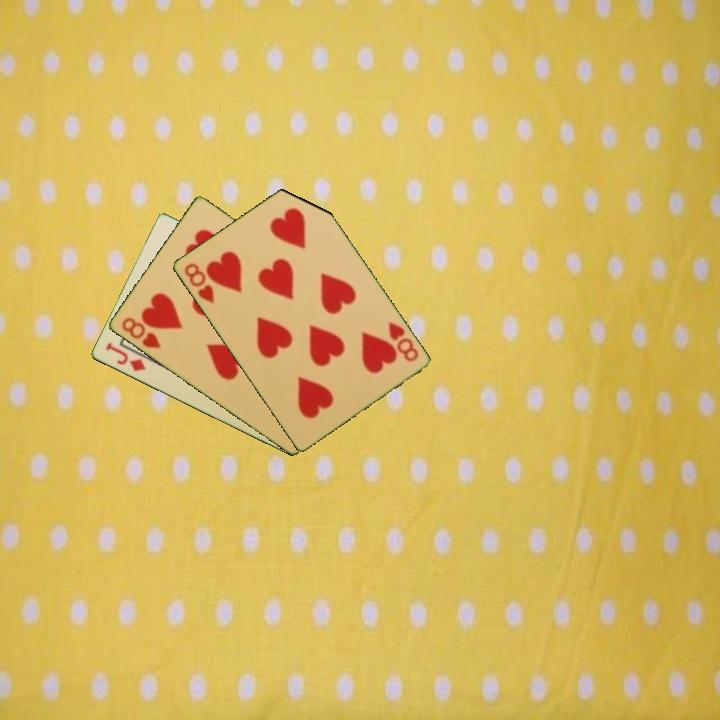8h: (117, 314, 164, 352), (180, 259, 217, 306), (384, 318, 421, 364)
Jd: (102, 339, 148, 375)
